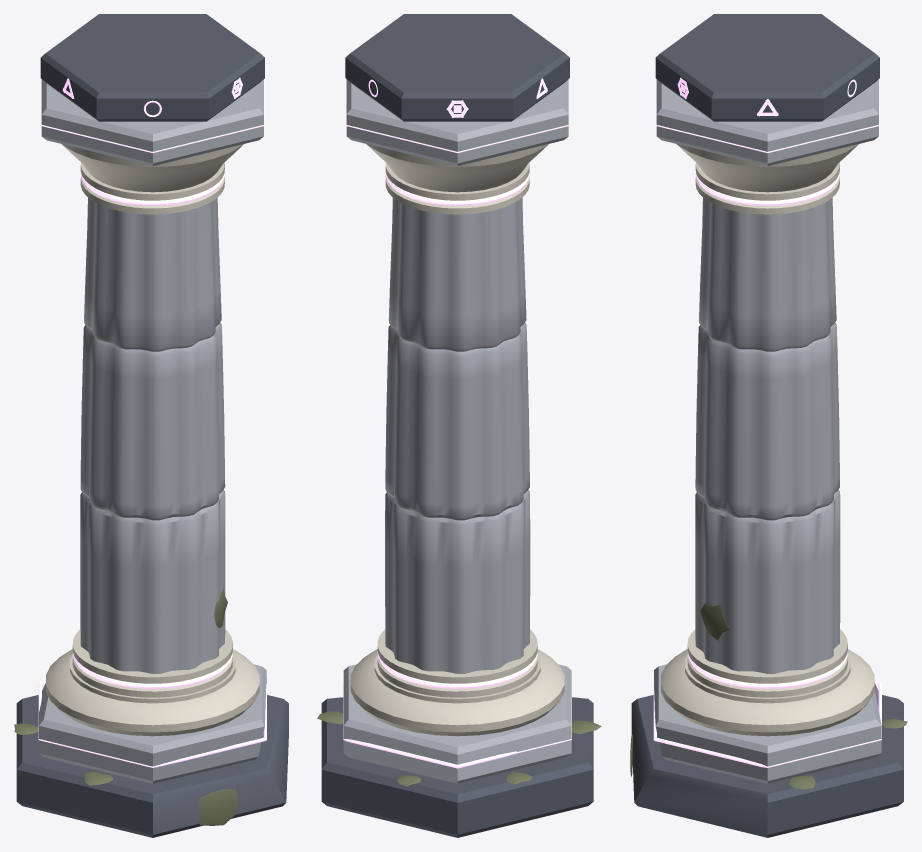
The model's file is deco_column_intact.fbx.
The picture shows the model from 3 angles, left to right: view 1: azimuth 30°, elevation 25°; view 2: azimuth 150°, elevation 25°; view 3: azimuth 270°, elevation 25°; orthographic projection.
Parts seen in each view (by area): view 1: Column_Intact_Shaft, Column_Intact_Base, Column_Intact_Capital, Column_Intact_Inlay; view 2: Column_Intact_Shaft, Column_Intact_Base, Column_Intact_Capital, Column_Intact_Inlay; view 3: Column_Intact_Shaft, Column_Intact_Base, Column_Intact_Capital, Column_Intact_Inlay.
Boxes of the visible parts, x1,y1,x2,y2 form: Column_Intact_Shaft: [72, 162, 232, 697]; Column_Intact_Base: [14, 649, 288, 837]; Column_Intact_Capital: [40, 14, 264, 192]; Column_Intact_Inlay: [41, 77, 264, 688]; Column_Intact_Shaft: [377, 162, 537, 697]; Column_Intact_Base: [317, 649, 601, 837]; Column_Intact_Capital: [345, 14, 569, 192]; Column_Intact_Inlay: [346, 78, 568, 688]; Column_Intact_Shaft: [687, 162, 847, 697]; Column_Intact_Base: [630, 649, 907, 837]; Column_Intact_Capital: [655, 14, 879, 192]; Column_Intact_Inlay: [656, 77, 879, 688].
Bounding box in the file's own units: 196 × 497 × 173.
